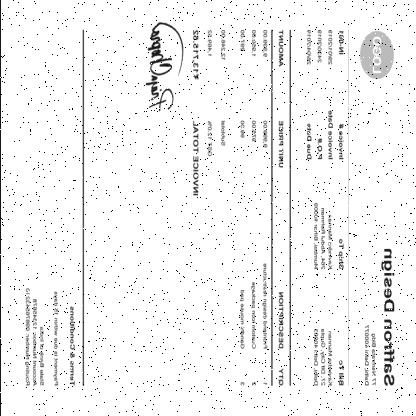Paragraph: (188, 24, 229, 200), (303, 27, 346, 163), (22, 286, 76, 390), (362, 245, 396, 388), (310, 201, 344, 273), (312, 327, 344, 388)
Table: (234, 24, 290, 390)
